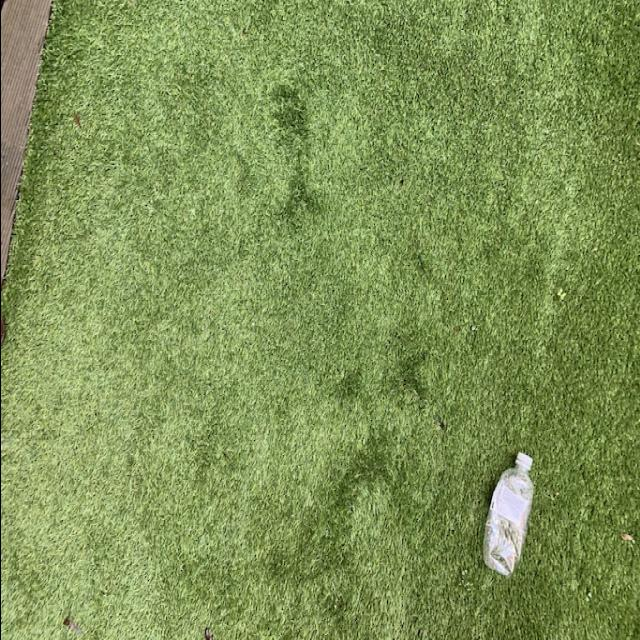PET: (480, 450, 536, 575)
